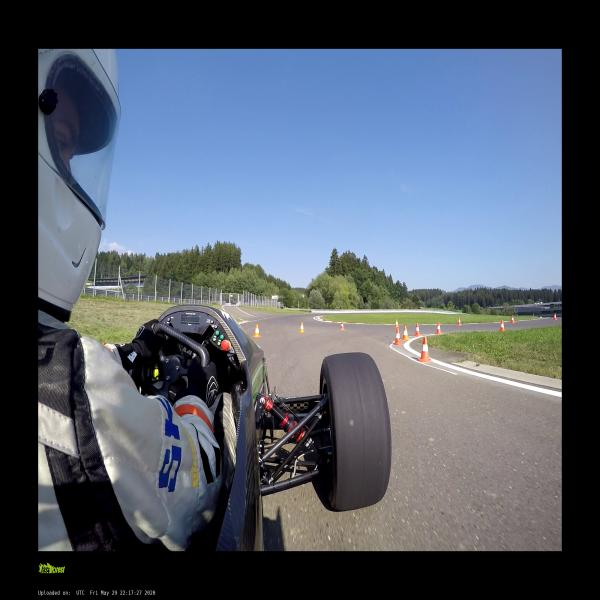orange_cone: (417, 337, 432, 363), (394, 328, 402, 346), (253, 324, 262, 338), (402, 326, 409, 340), (414, 323, 421, 337), (436, 322, 442, 335), (299, 322, 305, 333), (500, 320, 505, 332), (457, 317, 462, 326), (340, 322, 345, 330), (394, 320, 399, 328), (554, 313, 558, 320), (511, 316, 514, 323)
